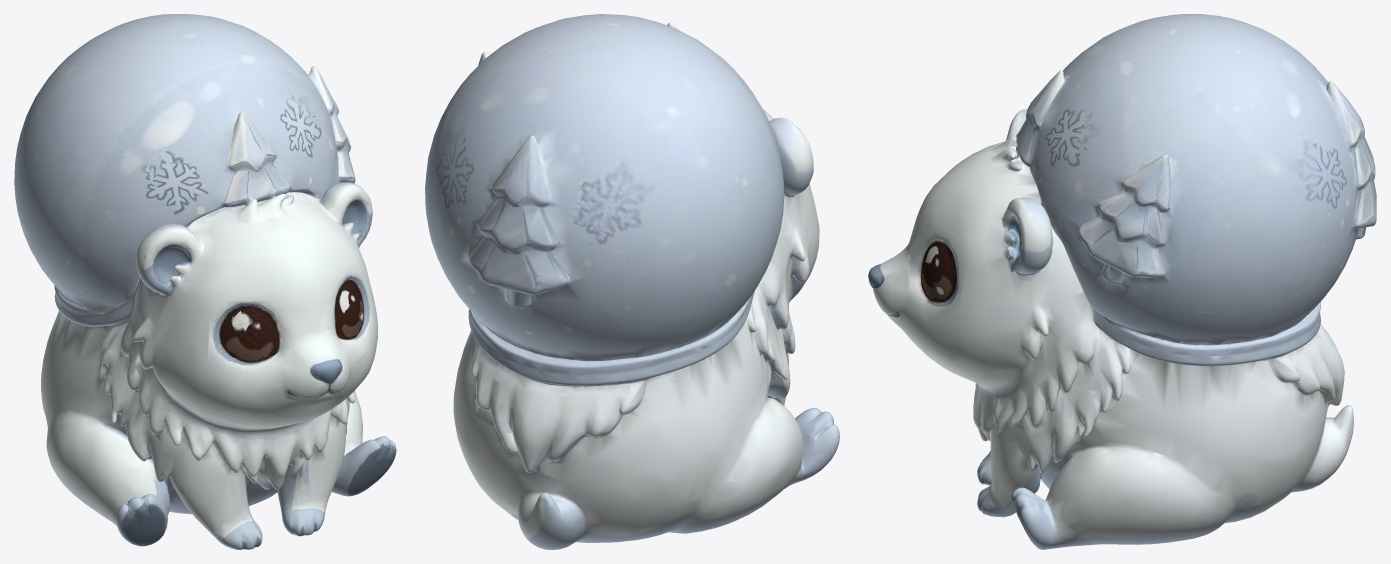
3 views of the same model, side by side, from view 1: azimuth 30°, elevation 25°; view 2: azimuth 150°, elevation 25°; view 3: azimuth 270°, elevation 25° (orthographic). The views are drawn at different scales.
Visible parts, largest first — view 1: Mesh_0; view 2: Mesh_0; view 3: Mesh_0.
Part boxes in pixels (x1,y1,x2,y2): Mesh_0: (14, 14, 396, 549); Mesh_0: (425, 14, 839, 549); Mesh_0: (868, 14, 1376, 549).
Bounding box in the file's own units: 1.31 × 1.9 × 1.89.
Materials: 1 (1 with a texture image).
